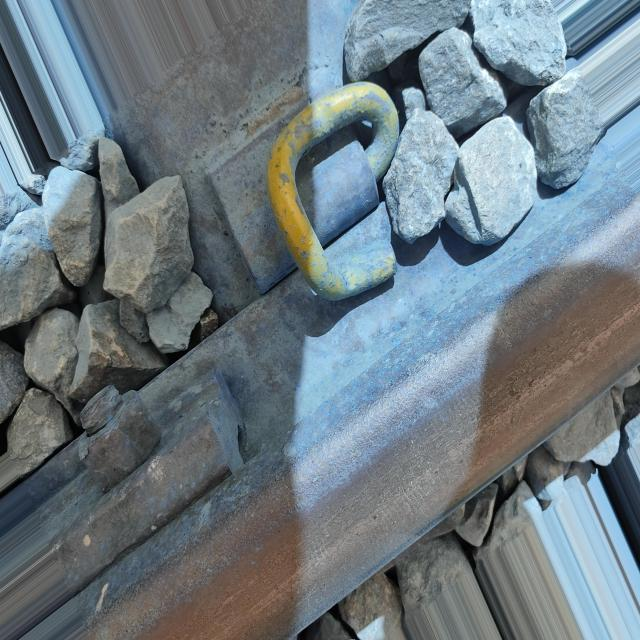Good Fasteners: (196, 68, 418, 330)
